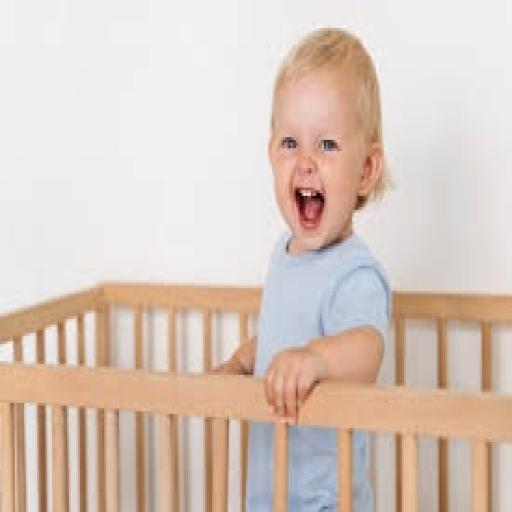baby: (218, 28, 390, 511)
crib: (0, 283, 288, 511)
